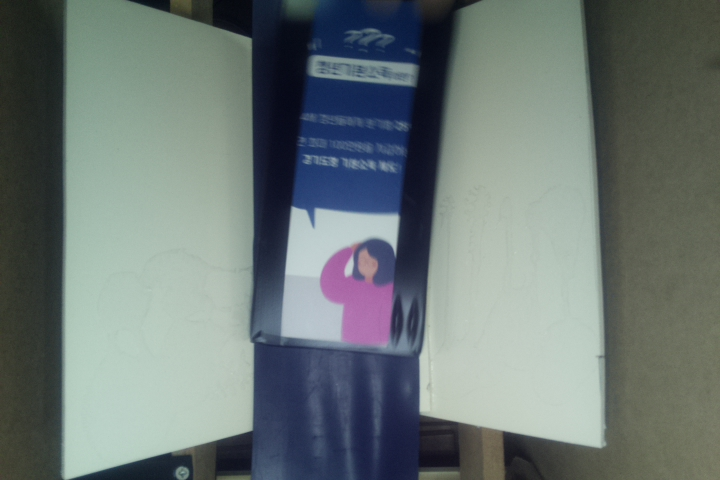book: (250, 1, 456, 357)
